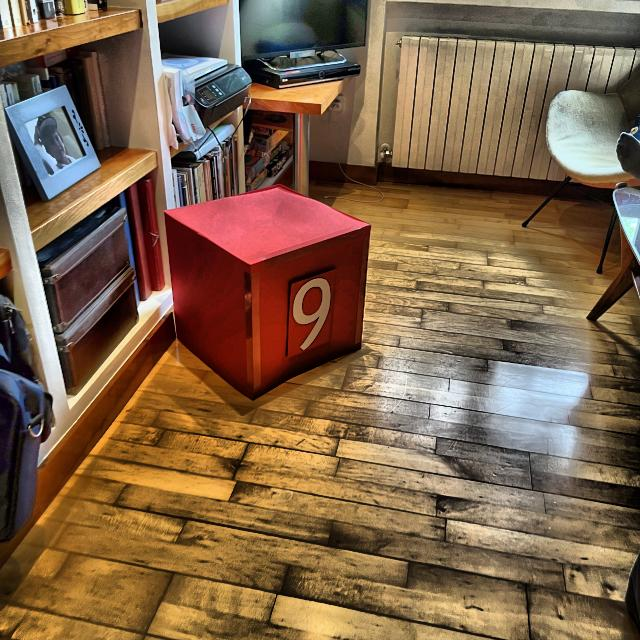nine: (290, 276, 332, 351)
red box: (166, 185, 370, 401)
